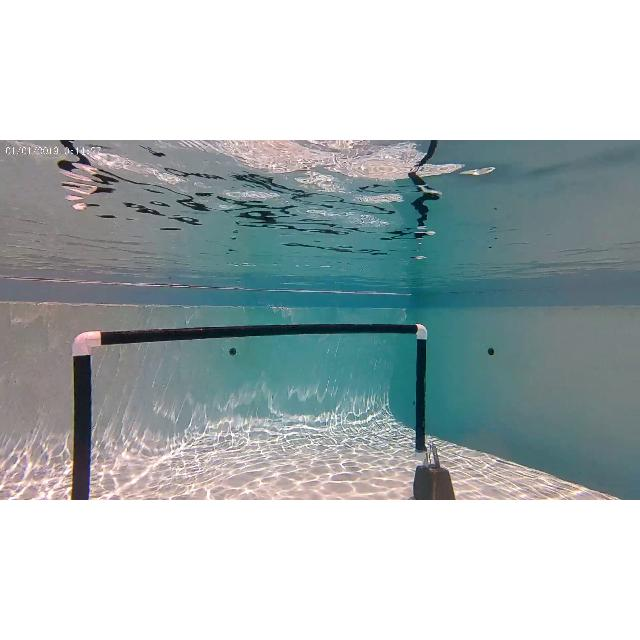prequal gate: (73, 324, 427, 500)
prequal gate leg l: (70, 320, 102, 500)
prequal gate leg r: (406, 320, 458, 500)
